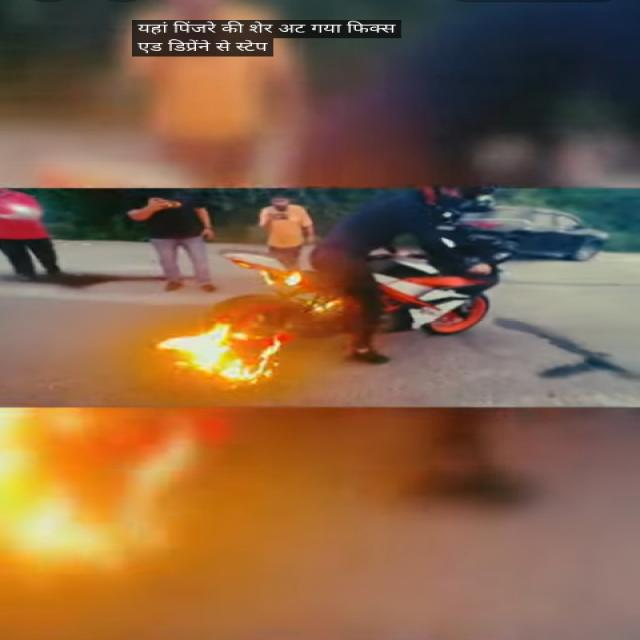fire: (155, 322, 257, 383)
